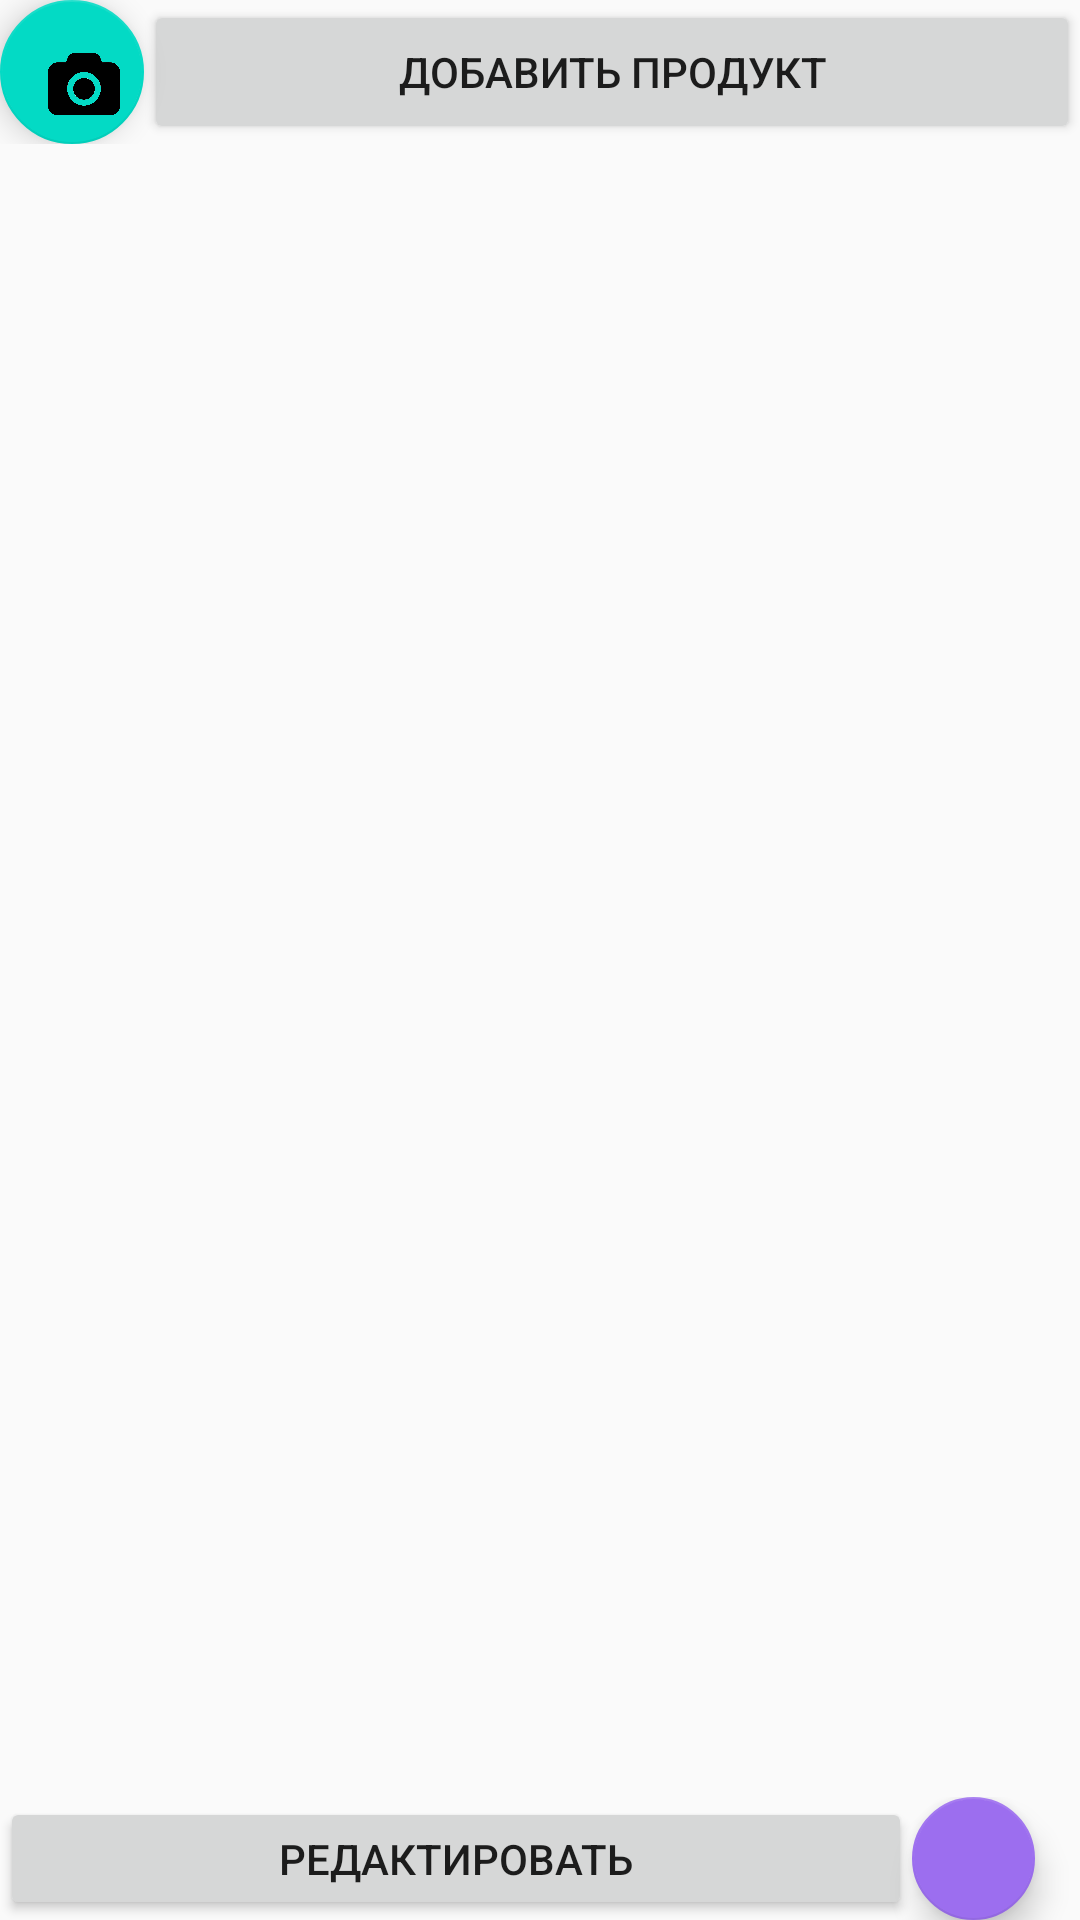

Screen size 1080x1920. Icon name, then its box in pixels as (x1, y1, x2, y2):
camera: (0, 0, 144, 144)
